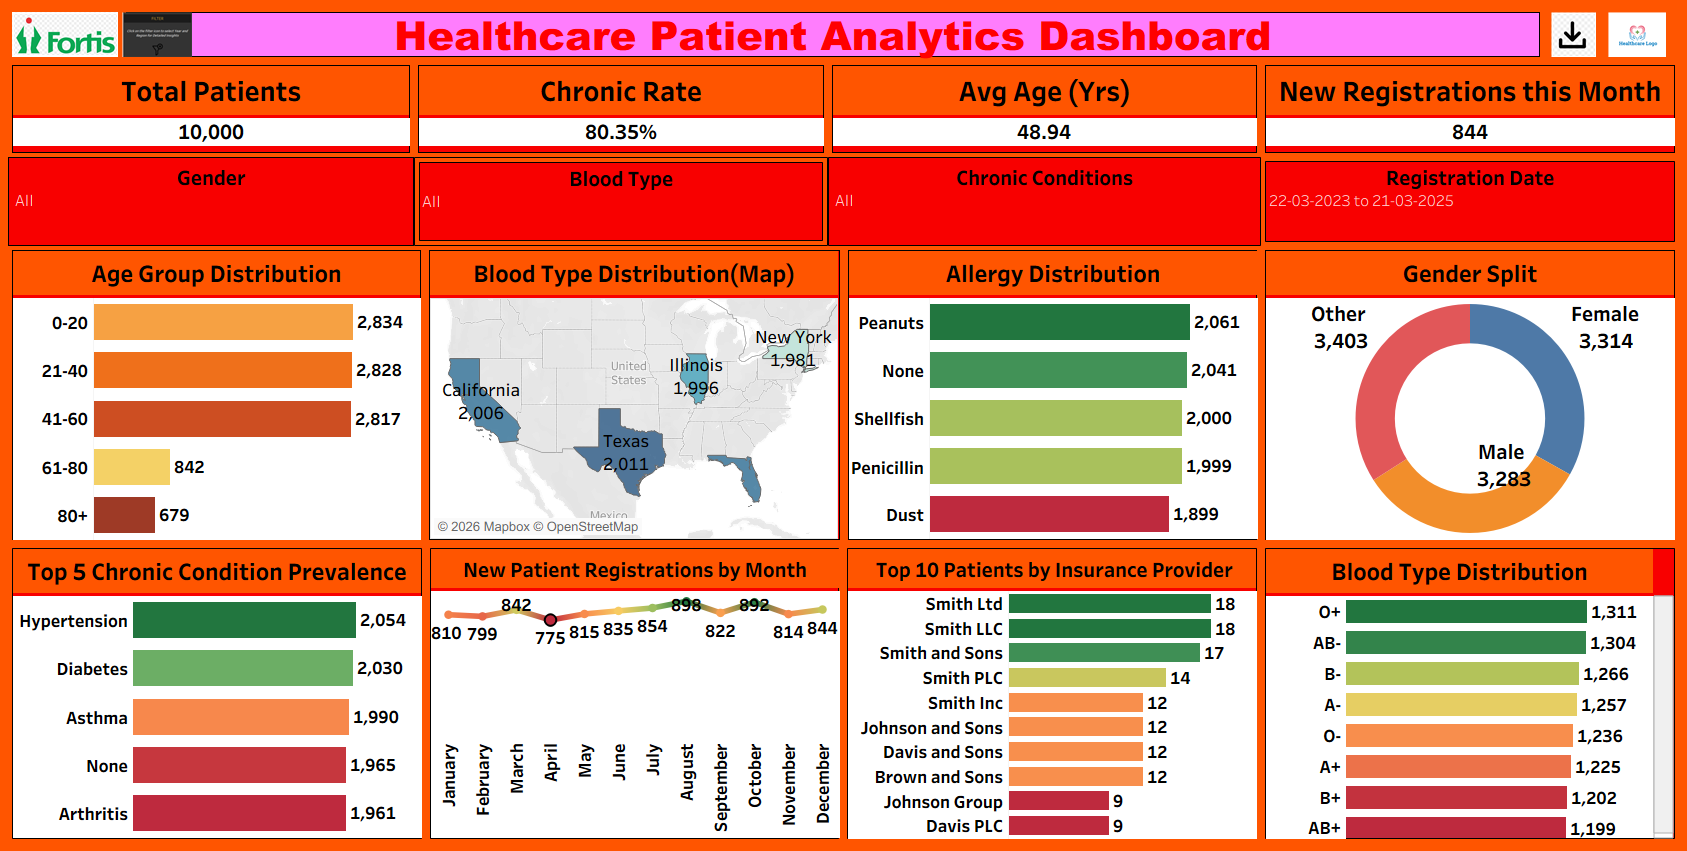

The dashboard page shown, as its layout file describes it:
{"tool":"tableau","page":{"name":"Dashboard","canvas":[1000,1000],"units":"permille","ordinal":0},"visuals":[{"type":"dashboard-object","box":[72.4,4.7,41.6,72.9]},{"type":"image","param":"Image/87-873073_fortis-hospital-noida-logo-hd-png-download.png","box":[4.8,9.4,67.5,62.2]},{"type":"text","box":[72.3,9.4,842.8,62.2]},{"type":"dashboard-object","box":[915,9.4,35.5,62.2]},{"type":"image","param":"Image/172499.png","box":[950.6,9.4,44.6,62.2]},{"type":"worksheet","title":"Total Patients","mark":"Automatic","box":[4.8,71.7,247.4,112.8]},{"type":"worksheet","title":"Chronic Rate","mark":"Automatic","box":[252.2,71.7,247.4,112.8]},{"type":"worksheet","title":"Avg Age","mark":"Automatic","box":[499.6,71.7,248.1,112.8]},{"type":"worksheet","title":"New Registrations","mark":"Automatic","box":[747.7,71.7,247.5,112.8]},{"type":"filter","title":"New Patient Registrations by Month","param":"[federated.0lezr0k0mgl8n915a42i513g8q26].[none:Registration Date:qk]","box":[747.6,184.5,247.5,104.6]},{"type":"filter","title":"Age Group Distribution","param":"[federated.0lezr0k0mgl8n915a42i513g8q26].[none:Gender:nk]","box":[5.4,185.6,246.1,78.7]},{"type":"filter","title":"Blood Type Distribution","param":"[federated.0lezr0k0mgl8n915a42i513g8q26].[none:Blood Type:nk]","box":[252.7,185.6,246.9,102.2]},{"type":"filter","title":"Top 5 Chronic Condition Prevalence","param":"[federated.0lezr0k0mgl8n915a42i513g8q26].[none:Chronic Conditions:nk]","box":[500.9,185.6,246.2,78.7]},{"type":"worksheet","title":"Age Group Distribution","mark":"Automatic","rows":["Age (bin)"],"cols":["Patient ID (👤 Patient)"],"box":[4.8,289,247.3,350.8]},{"type":"worksheet","title":"Blood Type Distribution(Map)","mark":"Automatic","box":[252.2,289,247.9,350.8]},{"type":"worksheet","title":"Allergy Distribution","mark":"Automatic","rows":["Allergies"],"cols":["Patient ID (👤 Patient)"],"box":[500.1,289,247.5,350.8]},{"type":"worksheet","title":"Gender Split","mark":"Pie","cols":["Calculation_1646860942954500","Calculation_1646860942954500"],"box":[747.6,289,247.6,350.8]},{"type":"worksheet","title":"Top 5 Chronic Condition Prevalence","mark":"Automatic","rows":["Chronic Conditions"],"cols":["Patient ID (👤 Patient)"],"box":[4.8,639.8,247.5,350.8]},{"type":"worksheet","title":"New Patient Registrations by Month","mark":"Automatic","rows":["Patient ID (👤 Patient)"],"cols":["Registration Date"],"box":[252.3,639.8,247.6,350.8]},{"type":"worksheet","title":" Top 10 Patients by Insurance Provider","mark":"Automatic","rows":["Insurance Provider"],"cols":["Patient ID (👤 Patient)"],"box":[499.9,639.8,247.6,350.8]},{"type":"worksheet","title":"Blood Type Distribution","mark":"Automatic","rows":["Blood Type"],"cols":["Patient ID (👤 Patient)"],"box":[747.5,639.8,247.7,350.8]}]}

Visuals, with their boxes on the dashboard's canvas, which has no fixed pixel size, in thousandths of its width and height (x1, y1, x2, y2). These are canvas units, not pixel positions in the 1687x851 screenshot, which may show the page scaled, cropped or inside an application window:
dashboard-object: bbox=[72, 5, 114, 78]
image: bbox=[5, 9, 72, 72]
text: bbox=[72, 9, 915, 72]
dashboard-object: bbox=[915, 9, 950, 72]
image: bbox=[951, 9, 995, 72]
"Total Patients" worksheet: bbox=[5, 72, 252, 184]
"Chronic Rate" worksheet: bbox=[252, 72, 500, 184]
"Avg Age" worksheet: bbox=[500, 72, 748, 184]
"New Registrations" worksheet: bbox=[748, 72, 995, 184]
"New Patient Registrations by Month" filter: bbox=[748, 184, 995, 289]
"Age Group Distribution" filter: bbox=[5, 186, 252, 264]
"Blood Type Distribution" filter: bbox=[253, 186, 500, 288]
"Top 5 Chronic Condition Prevalence" filter: bbox=[501, 186, 747, 264]
"Age Group Distribution" worksheet: bbox=[5, 289, 252, 640]
"Blood Type Distribution(Map)" worksheet: bbox=[252, 289, 500, 640]
"Allergy Distribution" worksheet: bbox=[500, 289, 748, 640]
"Gender Split" worksheet (Pie marks): bbox=[748, 289, 995, 640]
"Top 5 Chronic Condition Prevalence" worksheet: bbox=[5, 640, 252, 991]
"New Patient Registrations by Month" worksheet: bbox=[252, 640, 500, 991]
" Top 10 Patients by Insurance Provider" worksheet: bbox=[500, 640, 748, 991]
"Blood Type Distribution" worksheet: bbox=[748, 640, 995, 991]
